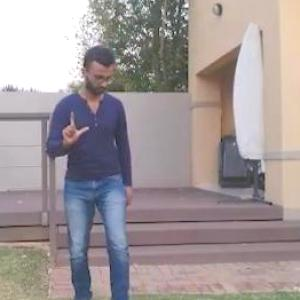land_hand: (56, 104, 92, 149)
